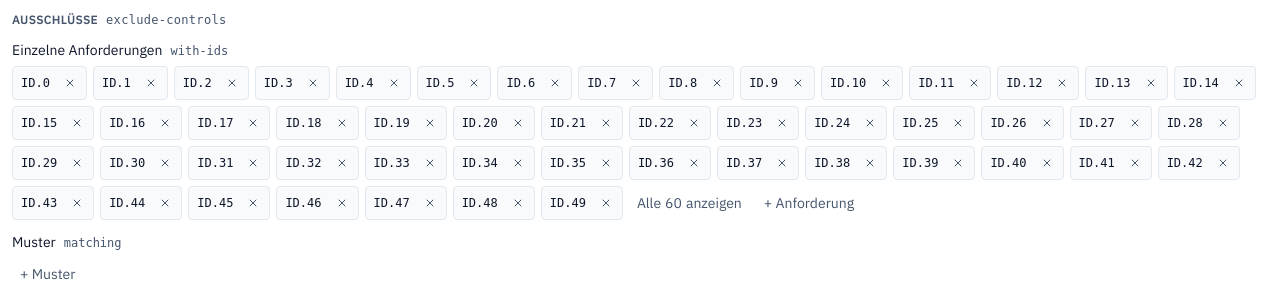
Test case: SelectionCriteria › zeigt eine hinzugefügte ID auch jenseits der ersten 50
Click the button "+ Anforderung": (809,203) [756,187,862,219]
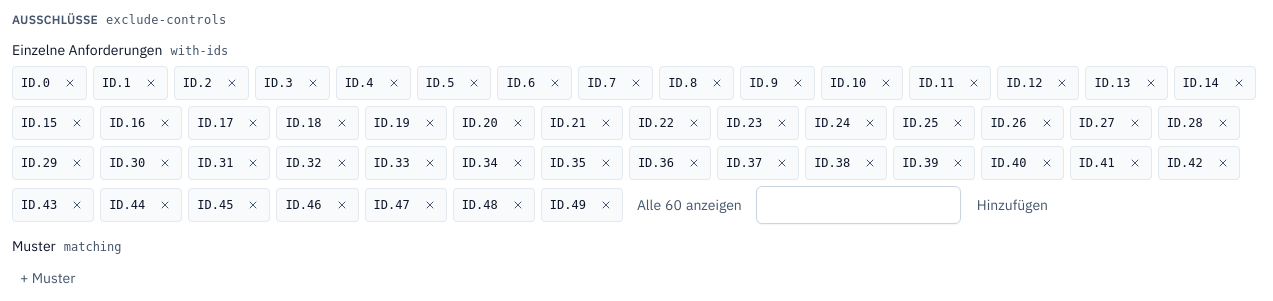
In the field named "ID der Anforderung": (858,205) [756,186,961,224], type "NEU.1"
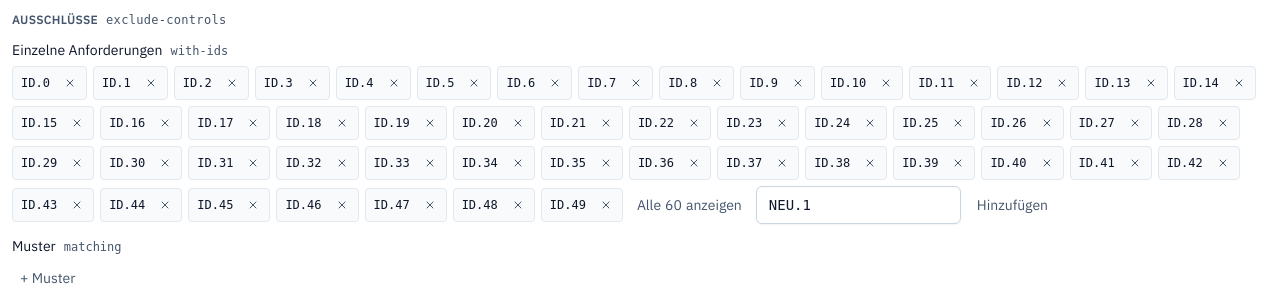
Click the button "Hinzufügen": (1012,205) [969,189,1056,221]
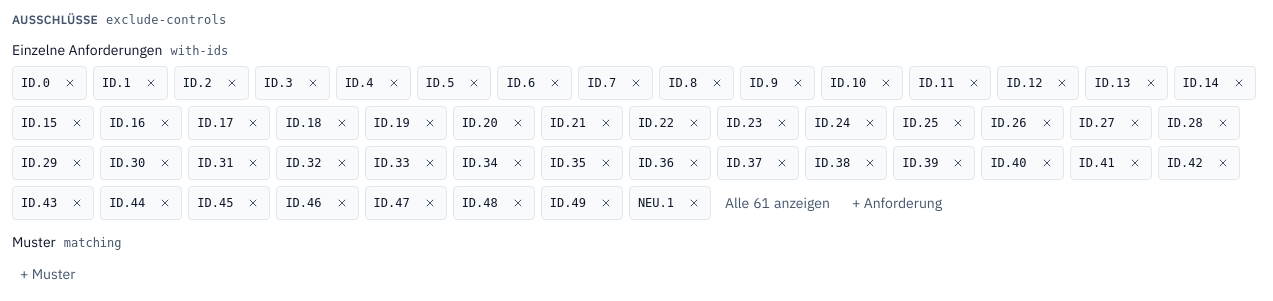
Expected: the button named "NEU.1 entfernen" is shown, [678,187,710,219]
